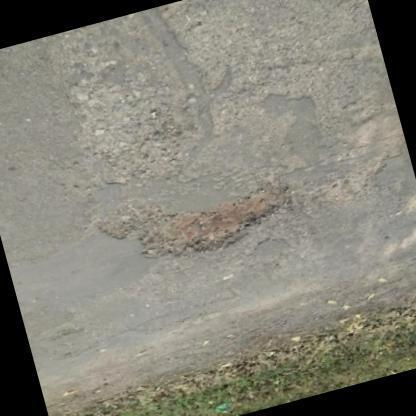pothole: (96, 182, 298, 258), (82, 94, 203, 180)
